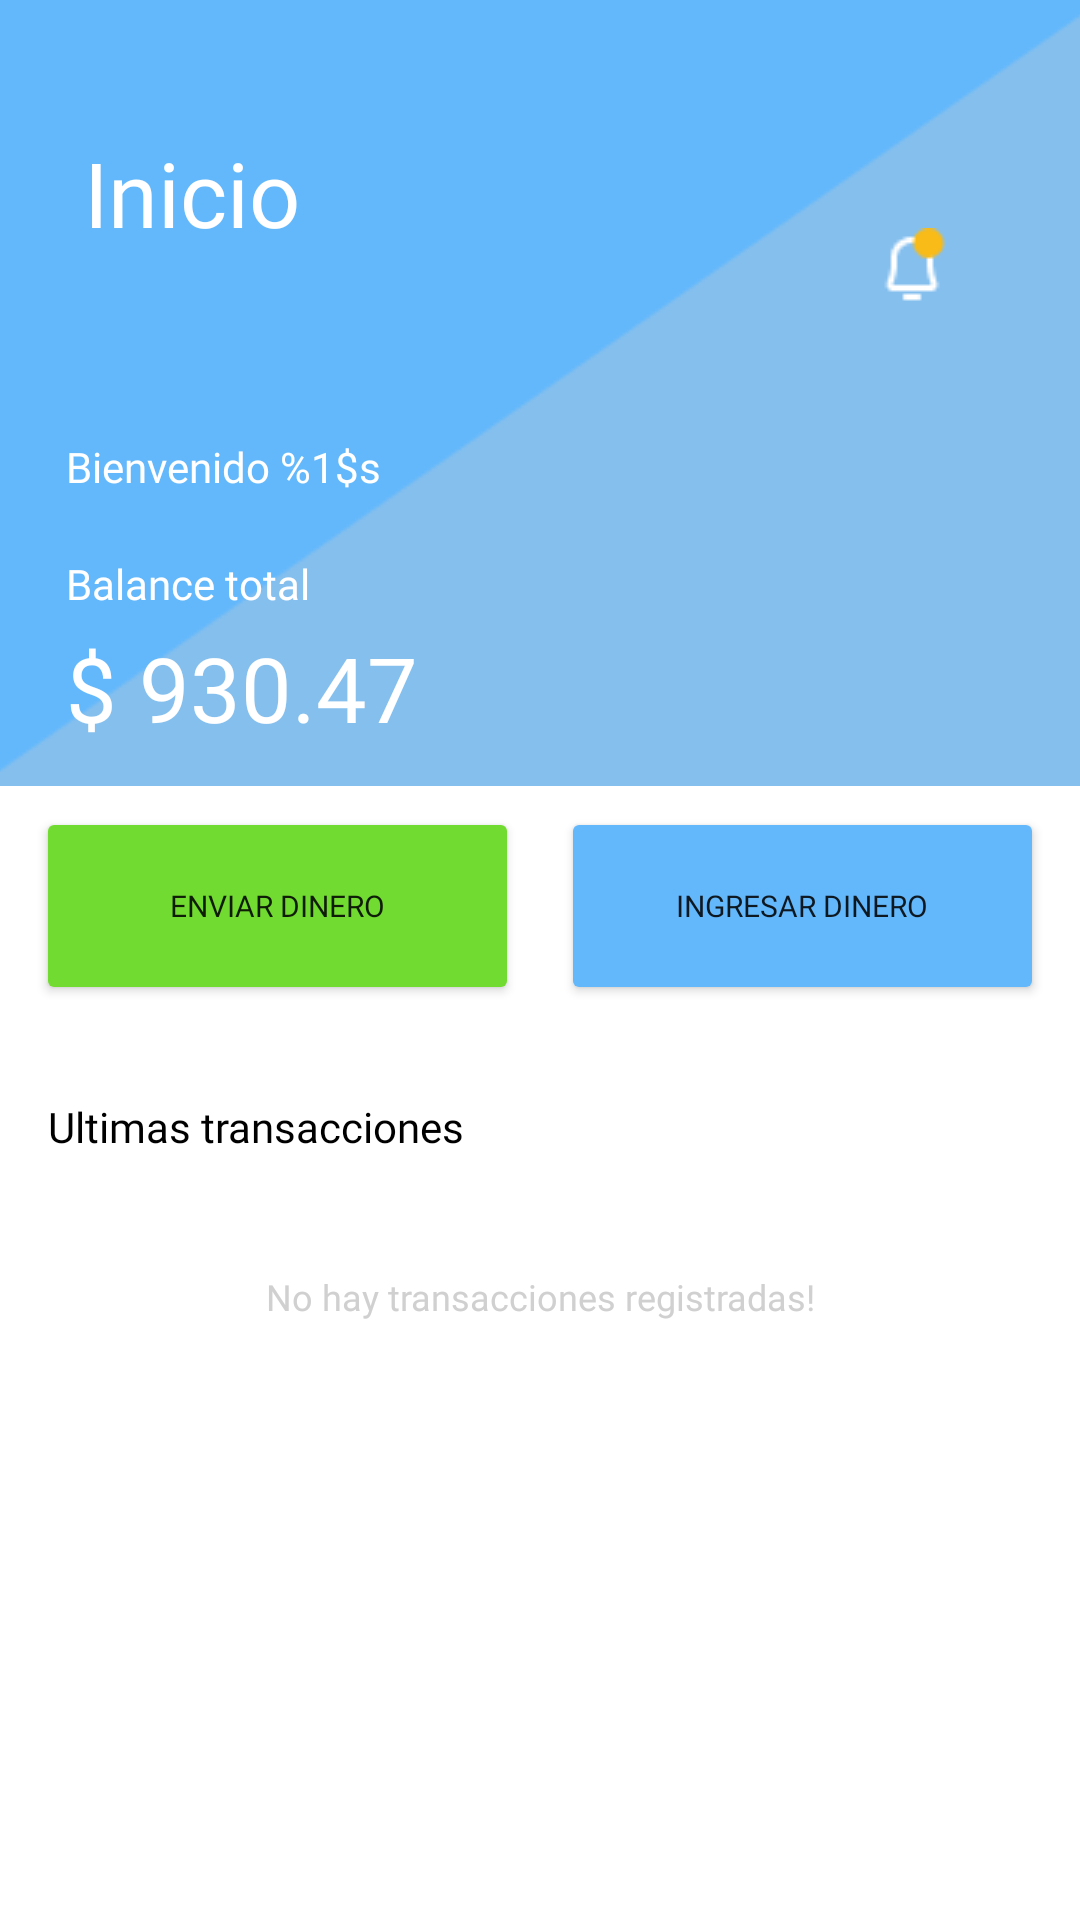

Point at icon controls on the screen. Image size 1080x1920, points as (x=x, y=y).
notification: (x=915, y=264)
